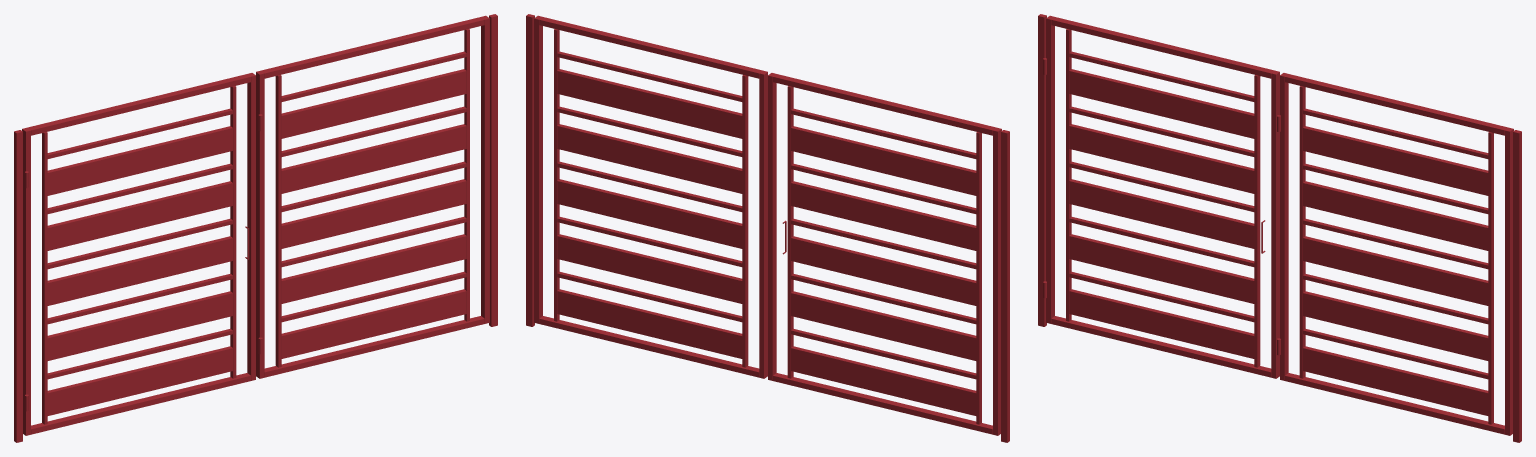
The model's file is red-alternating-horizontal-panel-gate-09.glb.
The picture shows the model from 3 angles, left to right: view 1: azimuth 30°, elevation 25°; view 2: azimuth 150°, elevation 25°; view 3: azimuth 330°, elevation 25°; orthographic projection.
Visible parts, largest first — view 1: Leaf 1 / Red horizontal board, Leaf 2 / Red horizontal board, Leaf 2 / Leaf frame, Leaf 1 / Leaf frame, Leaf 1 / Bars between boards, Leaf 2 / Bars between boards, Outer installation jamb, Leaf 2 / Inset stile beside open vertical gap, Leaf 1 / Inset stile beside open vertical gap; view 2: Leaf 1 / Red horizontal board, Leaf 2 / Red horizontal board, Leaf 2 / Leaf frame, Leaf 1 / Leaf frame, Leaf 1 / Bars between boards, Leaf 2 / Bars between boards, Outer installation jamb, Leaf 2 / Inset stile beside open vertical gap, Leaf 1 / Inset stile beside open vertical gap; view 3: Leaf 2 / Red horizontal board, Leaf 1 / Red horizontal board, Leaf 1 / Leaf frame, Leaf 2 / Leaf frame, Leaf 2 / Bars between boards, Leaf 1 / Bars between boards, Outer installation jamb, Leaf 1 / Inset stile beside open vertical gap, Leaf 2 / Inset stile beside open vertical gap.
Part boxes in pixels (left/top/right/bottom): Leaf 1 / Red horizontal board: left=47, top=126, right=232, bottom=415; Leaf 2 / Red horizontal board: left=281, top=69, right=466, bottom=358; Leaf 2 / Leaf frame: left=256, top=15, right=489, bottom=378; Leaf 1 / Leaf frame: left=22, top=73, right=255, bottom=435; Leaf 1 / Bars between boards: left=47, top=108, right=232, bottom=379; Leaf 2 / Bars between boards: left=281, top=51, right=466, bottom=322; Outer installation jamb: left=14, top=14, right=497, bottom=442; Leaf 2 / Inset stile beside open vertical gap: left=275, top=29, right=469, bottom=367; Leaf 1 / Inset stile beside open vertical gap: left=42, top=86, right=236, bottom=424; Leaf 1 / Red horizontal board: left=791, top=126, right=976, bottom=415; Leaf 2 / Red horizontal board: left=557, top=69, right=742, bottom=358; Leaf 2 / Leaf frame: left=534, top=15, right=767, bottom=378; Leaf 1 / Leaf frame: left=768, top=73, right=1001, bottom=435; Leaf 1 / Bars between boards: left=791, top=108, right=976, bottom=379; Leaf 2 / Bars between boards: left=557, top=51, right=742, bottom=322; Outer installation jamb: left=526, top=14, right=1009, bottom=442; Leaf 2 / Inset stile beside open vertical gap: left=554, top=29, right=748, bottom=367; Leaf 1 / Inset stile beside open vertical gap: left=787, top=86, right=981, bottom=424; Leaf 2 / Red horizontal board: left=1303, top=126, right=1488, bottom=415; Leaf 1 / Red horizontal board: left=1069, top=69, right=1254, bottom=358; Leaf 1 / Leaf frame: left=1046, top=15, right=1279, bottom=378; Leaf 2 / Leaf frame: left=1280, top=73, right=1513, bottom=435; Leaf 2 / Bars between boards: left=1303, top=108, right=1488, bottom=379; Leaf 1 / Bars between boards: left=1069, top=51, right=1254, bottom=322; Outer installation jamb: left=1038, top=14, right=1521, bottom=442; Leaf 1 / Inset stile beside open vertical gap: left=1066, top=29, right=1260, bottom=367; Leaf 2 / Inset stile beside open vertical gap: left=1299, top=86, right=1493, bottom=424.
Bounding box in the file's own units: 3.3 × 2.02 × 0.088.
